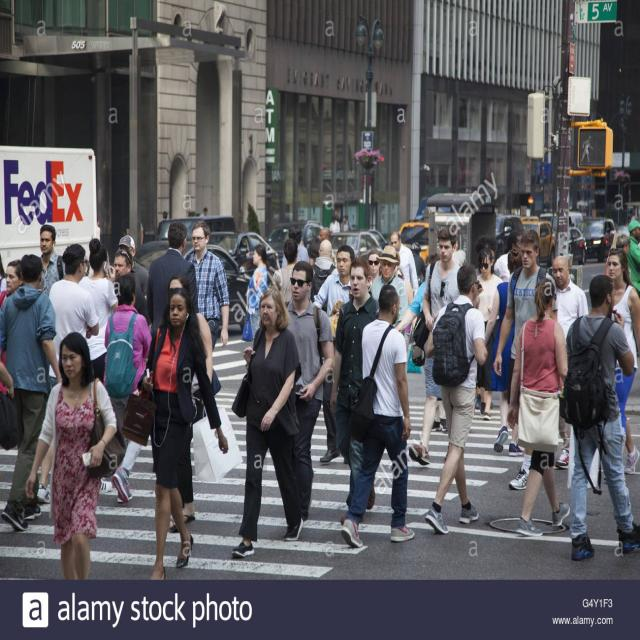body: (119, 286, 230, 580), (24, 329, 122, 582), (558, 270, 640, 561), (229, 285, 306, 559), (340, 278, 416, 550), (419, 260, 490, 536), (0, 253, 67, 531), (505, 276, 572, 538), (492, 230, 556, 493), (37, 242, 100, 506), (159, 272, 216, 535), (328, 255, 382, 528), (285, 260, 336, 526), (407, 225, 461, 468), (393, 252, 448, 436), (312, 244, 356, 465), (102, 275, 153, 451), (484, 247, 524, 458), (604, 247, 640, 477), (552, 255, 590, 471), (307, 207, 406, 274), (145, 218, 200, 338), (77, 237, 120, 386), (184, 220, 231, 352), (472, 246, 504, 422), (103, 246, 153, 334), (370, 244, 408, 337), (0, 258, 25, 397), (271, 237, 312, 305), (242, 244, 268, 344), (117, 234, 150, 300), (389, 229, 420, 299), (37, 224, 66, 298), (452, 233, 500, 276), (310, 238, 337, 314), (494, 231, 523, 282), (281, 224, 311, 267), (182, 199, 214, 236), (626, 220, 640, 291), (153, 199, 174, 242), (410, 240, 426, 288), (366, 247, 382, 292), (0, 249, 7, 318), (616, 233, 632, 255), (317, 227, 331, 244)
